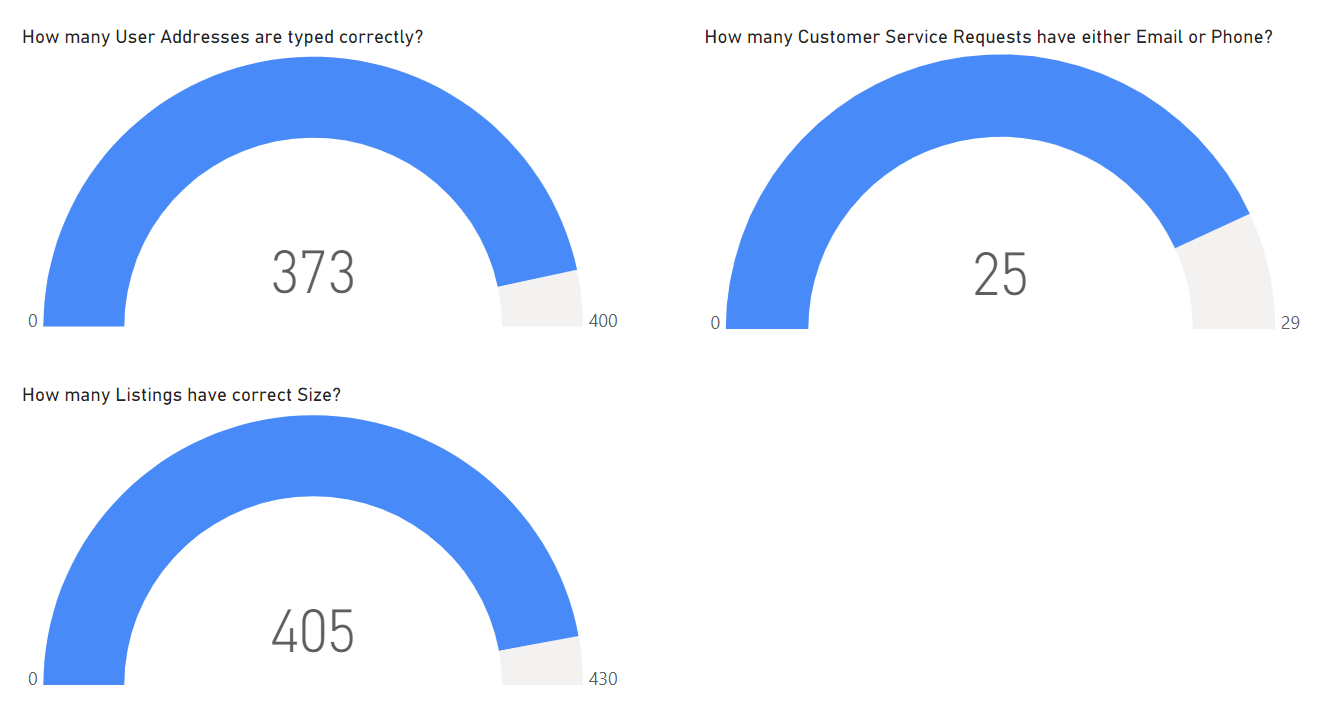

The page's visual inventory and layout, read from the dashboard file:
{"tool":"powerbi","page":{"name":"Page 1","canvas":[1280,720],"ordinal":0},"visuals":[{"type":"gauge","title":"How many User Addresses are typed correctly?","fields":{"Y":["usr users.RowsWhereAddressIsCorrect"],"MaxValue":["usr users.TotalUsrRows"]},"box":[30.8,77.6,545.9,282.3],"z":0},{"type":"gauge","title":"How many Customer Service Requests have either Email or Phone?","fields":{"Y":["cs customerservicerequests.RowsWithEmailOrPhone"],"MaxValue":["cs customerservicerequests.TotalRows"]},"box":[639.6,77.6,545.9,282.3],"z":1},{"type":"gauge","title":"How many Listings have correct Size?","fields":{"Y":["li listings.RowsWithCorrectSize"],"MaxValue":["li listings.TotalListingRows"]},"box":[30.8,397.4,545.9,282.3],"z":2}]}

Visuals, with their boxes on the page's 1280x720 design canvas (x1, y1, x2, y2). These are canvas units, not pixel positions in the 1323x709 screenshot, which may show the page scaled, cropped or inside an application window:
"How many User Addresses are typed correctly?" gauge: 31:78:577:360
"How many Customer Service Requests have either Email or Phone?" gauge: 640:78:1186:360
"How many Listings have correct Size?" gauge: 31:397:577:680
